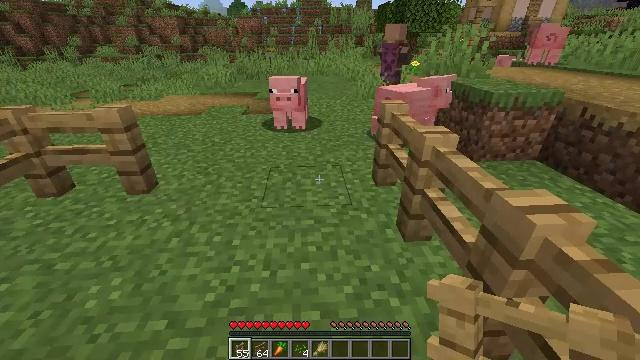pig: (376, 75, 459, 136), (268, 76, 308, 131), (525, 24, 568, 60), (495, 55, 521, 68)
